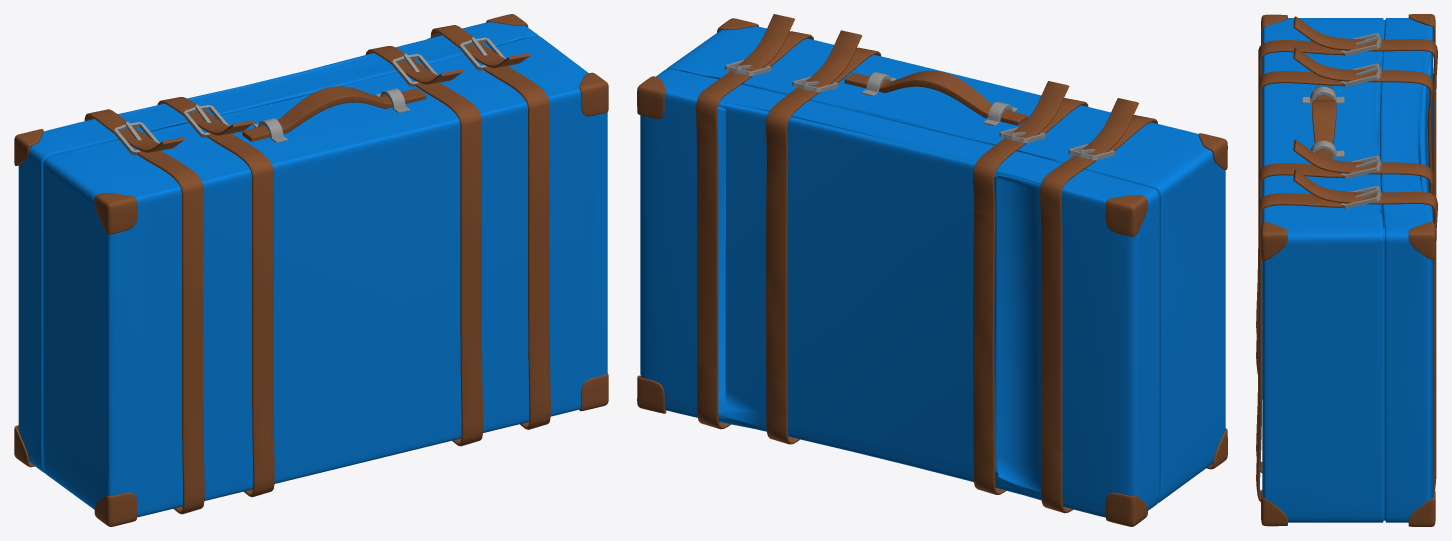
The model's file is luggage4.fbx.
3 renders of one model, left to right at view 1: azimuth 30°, elevation 25°; view 2: azimuth 150°, elevation 25°; view 3: azimuth 270°, elevation 25°, orthographic. The views are drawn at different scales.
Visible parts, largest first — view 1: luggage4; view 2: luggage4; view 3: luggage4.
Boxes of the visible parts, left/top/right/bottom form: luggage4: left=14, top=14, right=608, bottom=526; luggage4: left=637, top=14, right=1227, bottom=526; luggage4: left=1256, top=14, right=1437, bottom=526.
Bounding box in the file's own units: 131 × 90.28 × 45.23.
